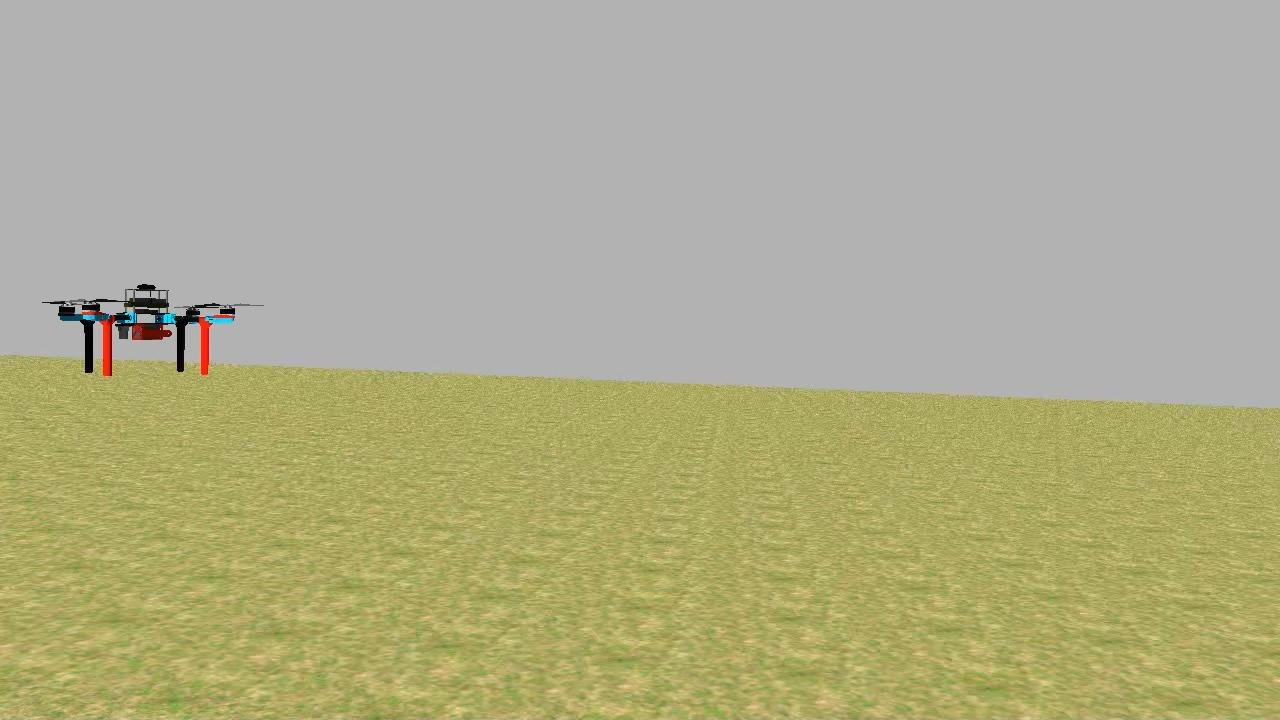UAV: (46, 274, 244, 386)
